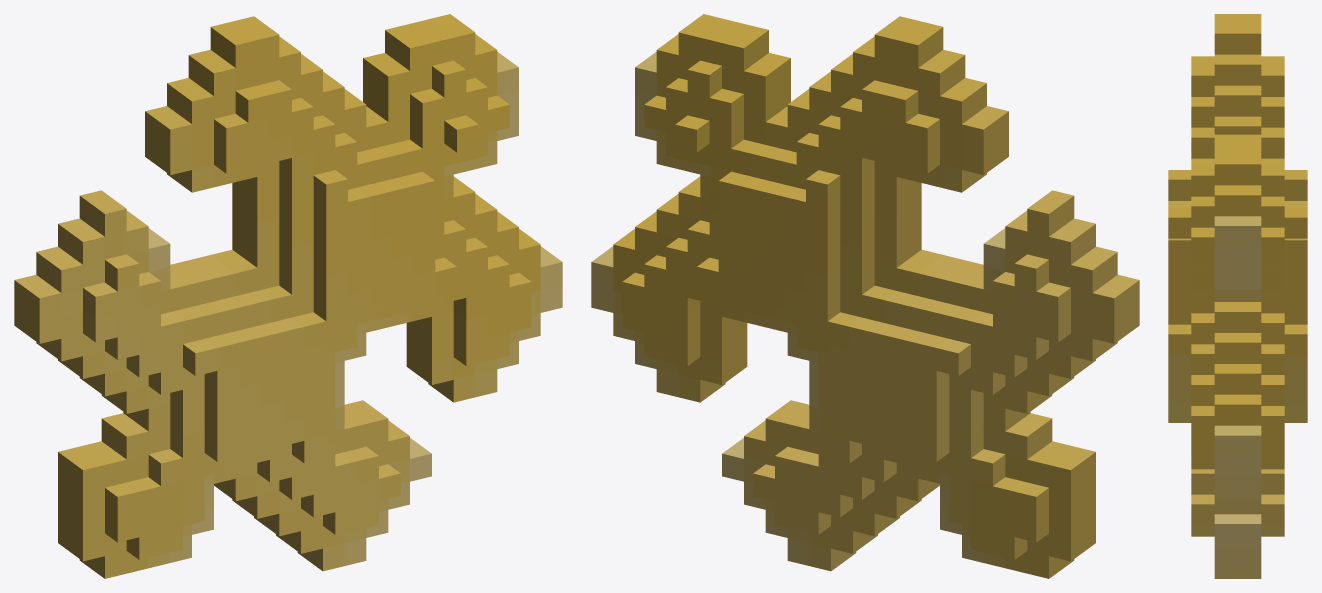
The model's file is puzzle-yellow.glb.
3 views of the same model, side by side, from view 1: azimuth 30°, elevation 25°; view 2: azimuth 150°, elevation 25°; view 3: azimuth 270°, elevation 25° (orthographic). The views are drawn at different scales.
Parts seen in each view (by area): view 1: prop; view 2: prop; view 3: prop.
Boxes of the visible parts, x1,y1,x2,y2 form: prop: (14,14,562,578); prop: (591,14,1139,578); prop: (1168,14,1307,578).
Size of the model in its own units: 16 by 16 by 4.
